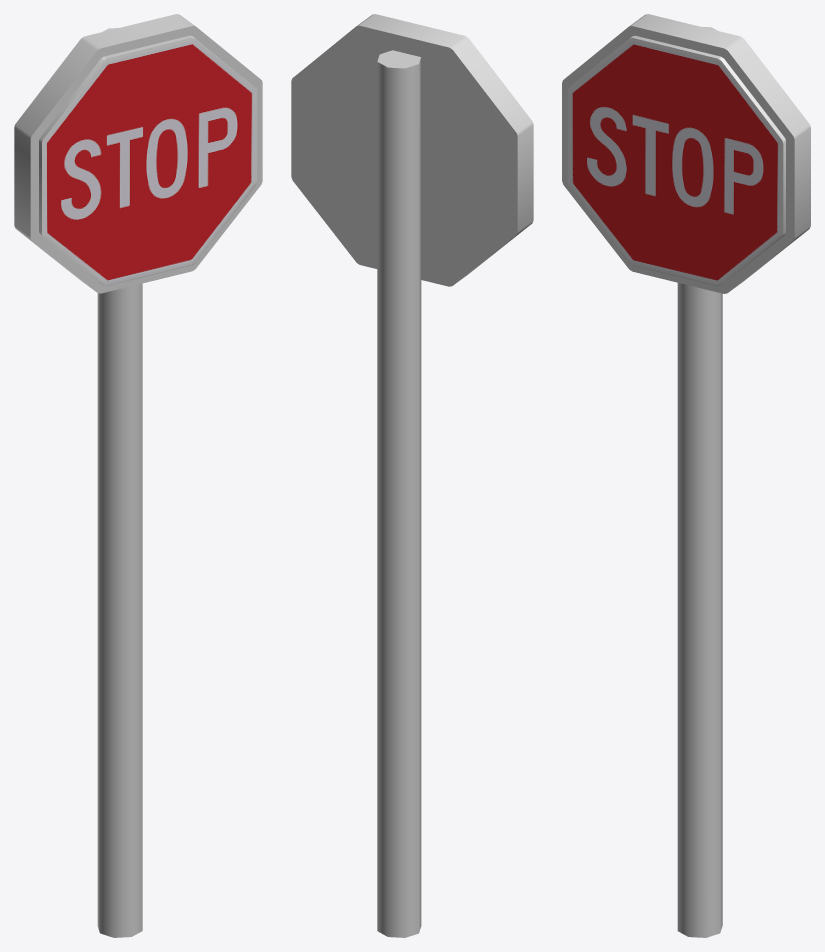
The model's file is STOPSIGN.fbx.
3 views of the same model, side by side, from view 1: azimuth 30°, elevation 25°; view 2: azimuth 150°, elevation 25°; view 3: azimuth 330°, elevation 25° (orthographic). The views are drawn at different scales.
Visible parts, largest first — view 1: pasted__RoadSigns-1_pasted__layer 2; view 2: pasted__RoadSigns-1_pasted__layer 2; view 3: pasted__RoadSigns-1_pasted__layer 2.
Boxes of the visible parts, x1,y1,x2,y2 form: pasted__RoadSigns-1_pasted__layer 2: [14, 14, 262, 937]; pasted__RoadSigns-1_pasted__layer 2: [291, 14, 533, 937]; pasted__RoadSigns-1_pasted__layer 2: [562, 14, 810, 937].
Size of the model in its own units: 1.04 by 3.91 by 0.3017.
2 materials, 1 textured.
